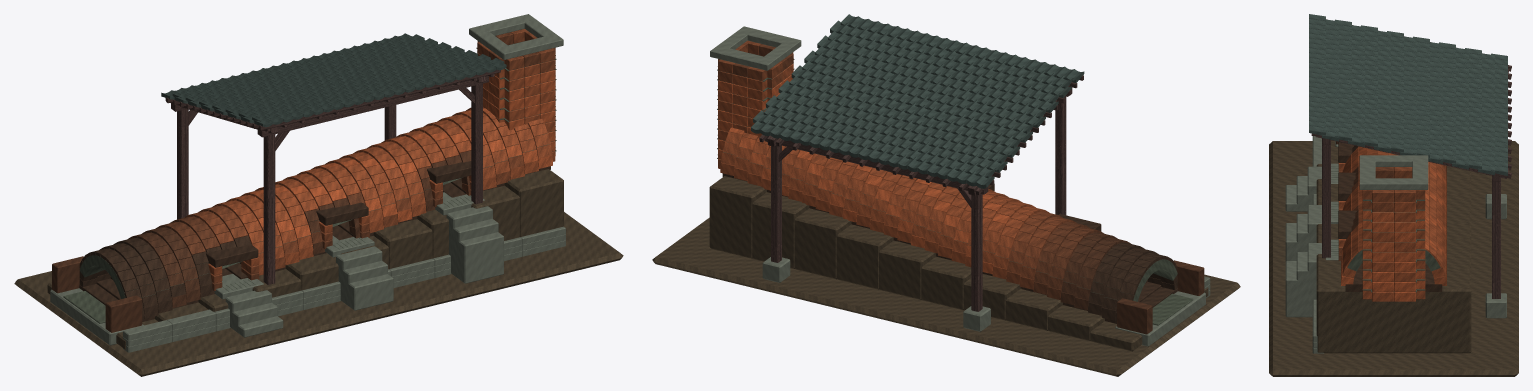
The model's file is Escudo.glb.
3 views of the same model, side by side, from view 1: azimuth 30°, elevation 25°; view 2: azimuth 150°, elevation 25°; view 3: azimuth 270°, elevation 25° (orthographic). The views are drawn at different scales.
Parts seen in each view (by area): view 1: Runtime_earth_ImagePBR, Runtime_stone_ImagePBR, Runtime_Localized_fired_clay_4, Runtime_tile_ImagePBR, Runtime_wood_ImagePBR, Runtime_Localized_fired_clay_0, Runtime_Localized_fired_clay_5, Runtime_Localized_fired_clay_1, Runtime_Localized_fired_clay_3, Runtime_Localized_fired_clay_2, Runtime_ash_ImagePBR, Runtime_hotbrick_ImagePBR; view 2: Runtime_earth_ImagePBR, Runtime_tile_ImagePBR, Runtime_Localized_fired_clay_4, Runtime_wood_ImagePBR, Runtime_Localized_fired_clay_5, Runtime_stone_ImagePBR, Runtime_Localized_fired_clay_1, Runtime_Localized_fired_clay_0, Runtime_Localized_fired_clay_3, Runtime_Localized_fired_clay_2, Runtime_ash_ImagePBR, Runtime_hotbrick_ImagePBR; view 3: Runtime_earth_ImagePBR, Runtime_tile_ImagePBR, Runtime_stone_ImagePBR, Runtime_Localized_fired_clay_4, Runtime_Localized_fired_clay_5, Runtime_wood_ImagePBR, Runtime_Localized_fired_clay_3, Runtime_ash_ImagePBR, Runtime_Localized_fired_clay_0, Runtime_hotbrick_ImagePBR, Runtime_Localized_fired_clay_2.
Part boxes in pixels (x1=…): Runtime_earth_ImagePBR: x1=14, y1=169, x2=623, y2=376; Runtime_stone_ImagePBR: x1=50, y1=14, x2=565, y2=352; Runtime_Localized_fired_clay_4: x1=208, y1=63, x2=555, y2=275; Runtime_tile_ImagePBR: x1=161, y1=33, x2=506, y2=127; Runtime_wood_ImagePBR: x1=165, y1=69, x2=500, y2=284; Runtime_Localized_fired_clay_0: x1=79, y1=161, x2=471, y2=321; Runtime_Localized_fired_clay_5: x1=231, y1=66, x2=555, y2=238; Runtime_Localized_fired_clay_1: x1=52, y1=150, x2=471, y2=332; Runtime_Localized_fired_clay_3: x1=184, y1=29, x2=555, y2=283; Runtime_Localized_fired_clay_2: x1=156, y1=32, x2=539, y2=290; Runtime_ash_ImagePBR: x1=63, y1=41, x2=556, y2=323; Runtime_hotbrick_ImagePBR: x1=79, y1=166, x2=550, y2=321; Runtime_earth_ImagePBR: x1=652, y1=176, x2=1240, y2=376; Runtime_tile_ImagePBR: x1=751, y1=14, x2=1084, y2=188; Runtime_Localized_fired_clay_4: x1=718, y1=64, x2=1049, y2=279; Runtime_wood_ImagePBR: x1=759, y1=75, x2=1083, y2=311; Runtime_Localized_fired_clay_5: x1=718, y1=75, x2=1035, y2=274; Runtime_stone_ImagePBR: x1=710, y1=26, x2=1210, y2=346; Runtime_Localized_fired_clay_1: x1=1060, y1=232, x2=1204, y2=334; Runtime_Localized_fired_clay_0: x1=988, y1=184, x2=1177, y2=322; Runtime_Localized_fired_clay_3: x1=718, y1=40, x2=1076, y2=289; Runtime_Localized_fired_clay_2: x1=733, y1=44, x2=1103, y2=299; Runtime_ash_ImagePBR: x1=717, y1=52, x2=1193, y2=325; Runtime_hotbrick_ImagePBR: x1=722, y1=173, x2=1177, y2=323; Runtime_earth_ImagePBR: x1=1269, y1=140, x2=1518, y2=376; Runtime_tile_ImagePBR: x1=1309, y1=14, x2=1507, y2=175; Runtime_stone_ImagePBR: x1=1285, y1=136, x2=1506, y2=353; Runtime_Localized_fired_clay_4: x1=1338, y1=146, x2=1446, y2=301; Runtime_Localized_fired_clay_5: x1=1341, y1=147, x2=1446, y2=301; Runtime_wood_ImagePBR: x1=1311, y1=19, x2=1511, y2=298; Runtime_Localized_fired_clay_3: x1=1338, y1=165, x2=1446, y2=268; Runtime_ash_ImagePBR: x1=1331, y1=166, x2=1440, y2=292; Runtime_Localized_fired_clay_0: x1=1338, y1=142, x2=1358, y2=238; Runtime_hotbrick_ImagePBR: x1=1345, y1=263, x2=1442, y2=291; Runtime_Localized_fired_clay_2: x1=1338, y1=166, x2=1446, y2=260.
Bounding box in the file's own units: 11 × 4.44 × 5.
Materials: 12 (12 with a texture image).
